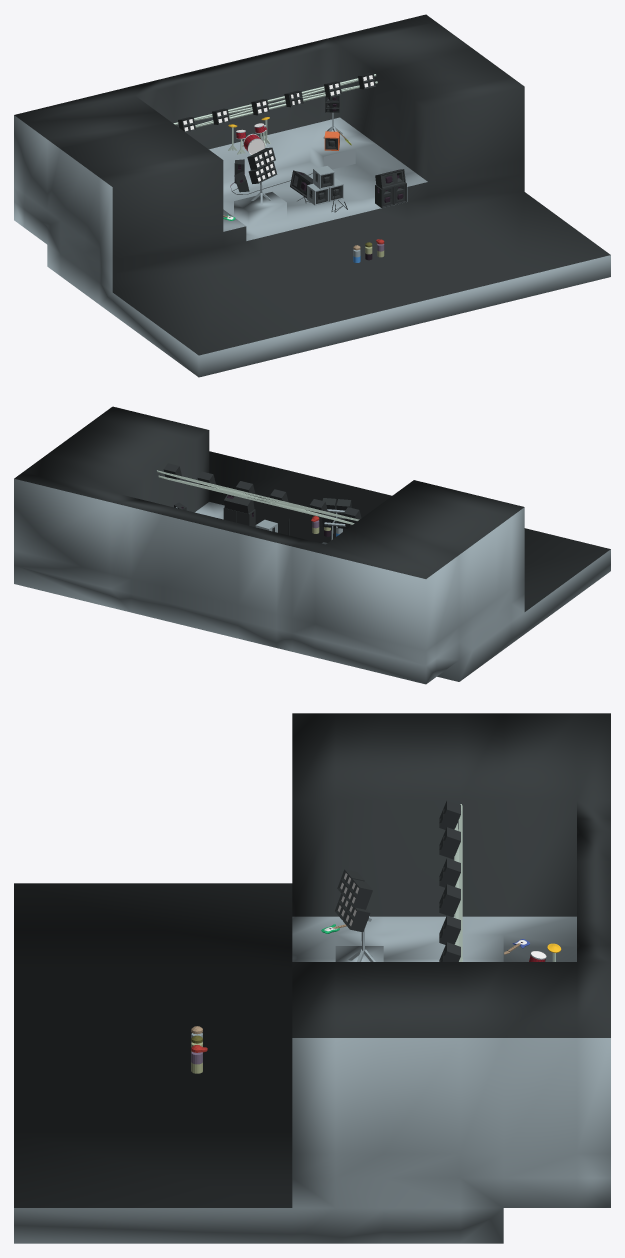
File: LD51RockGround.fbx
3 views of the same model, one above another, from view 1: azimuth 30°, elevation 25°; view 2: azimuth 150°, elevation 25°; view 3: azimuth 270°, elevation 25° (orthographic). The views are drawn at different scales.
Parts seen in each view (by area): view 1: Ground, Stagelight, Speaker.017, Drumset, Big_speaker3; view 2: Ground, Stagelight, Speaker.017, Speaker.005; view 3: Ground, Stagelight, Speaker.017.
Part boxes in pixels (left/top/right/bottom): Ground: left=14, top=14, right=610, bottom=377; Stagelight: left=173, top=73, right=377, bottom=132; Speaker.017: left=247, top=147, right=277, bottom=204; Drumset: left=228, top=117, right=270, bottom=154; Big_speaker3: left=307, top=178, right=343, bottom=205; Ground: left=14, top=406, right=610, bottom=684; Stagelight: left=157, top=463, right=361, bottom=524; Speaker.017: left=322, top=498, right=351, bottom=539; Speaker.005: left=224, top=494, right=254, bottom=513; Ground: left=14, top=713, right=610, bottom=1243; Stagelight: left=439, top=800, right=462, bottom=961; Speaker.017: left=335, top=869, right=375, bottom=961.
Size of the model in its own units: 13354 by 10378 by 4046.
